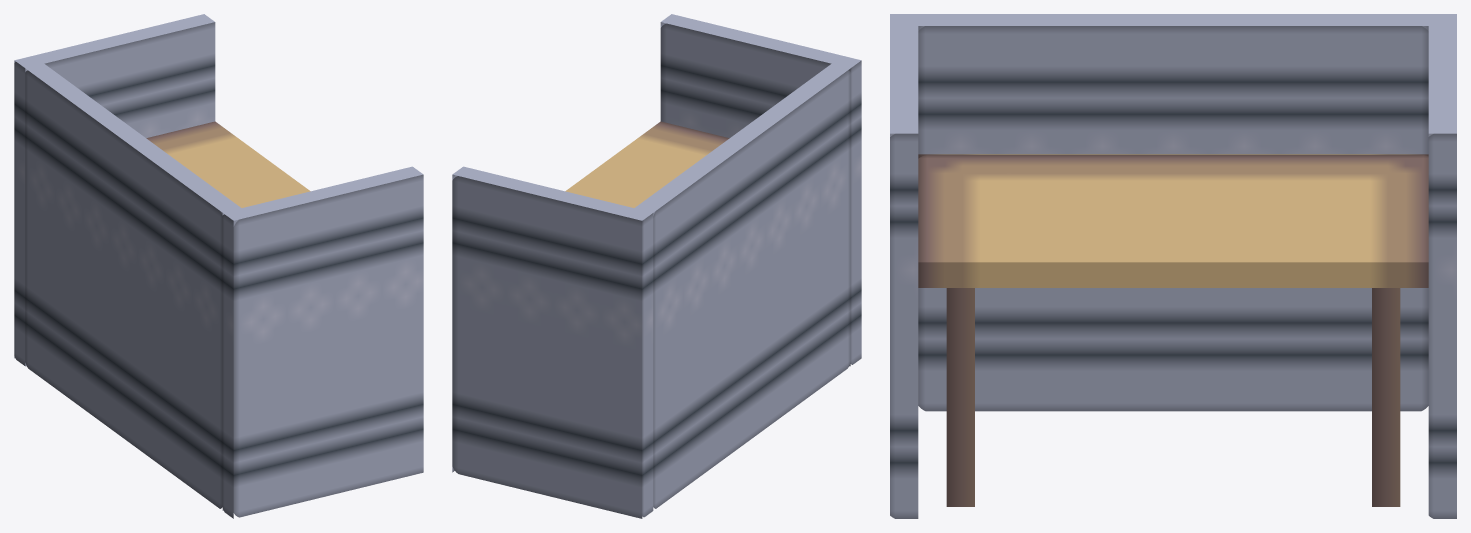
File: Cubicle_Desk.fbx
3 renders of one model, left to right at view 1: azimuth 30°, elevation 25°; view 2: azimuth 150°, elevation 25°; view 3: azimuth 270°, elevation 25°, orthographic. The views are drawn at different scales.
Visible parts, largest first — view 1: Cube.044, Cube.070, Cube.043, Cube.076; view 2: Cube.044, Cube.043, Cube.070, Cube.076; view 3: Cube.044, Cube.076, Cube.070, Cube.043, Cube.077.
Part boxes in pixels (box(x1,y1,x2,y2)): Cube.044: box(25, 64, 241, 508); Cube.070: box(222, 166, 423, 518); Cube.043: box(14, 14, 215, 365); Cube.076: box(146, 121, 310, 207); Cube.044: box(634, 64, 850, 508); Cube.043: box(452, 166, 653, 518); Cube.070: box(660, 14, 861, 366); Cube.076: box(565, 121, 729, 207); Cube.044: box(918, 14, 1428, 411); Cube.076: box(918, 154, 1428, 287); Cube.070: box(890, 14, 918, 518); Cube.043: box(1428, 14, 1456, 518); Cube.077: box(946, 288, 1400, 506).
Size of the model in its own units: 100 by 150 by 200.
